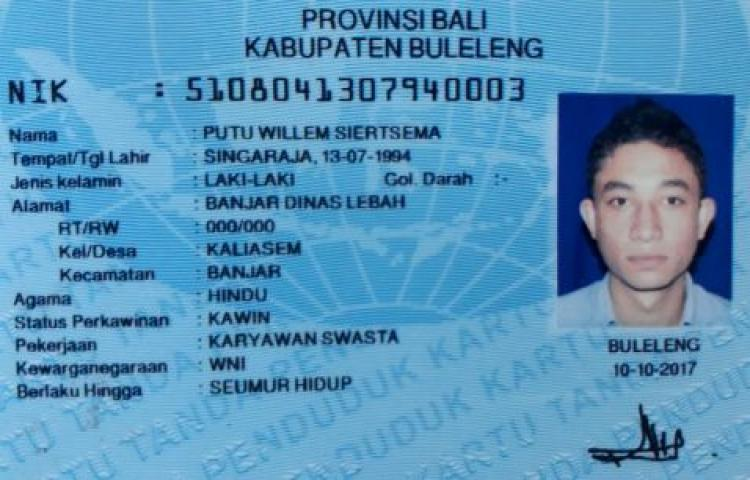ID-card: (0, 1, 749, 474)
